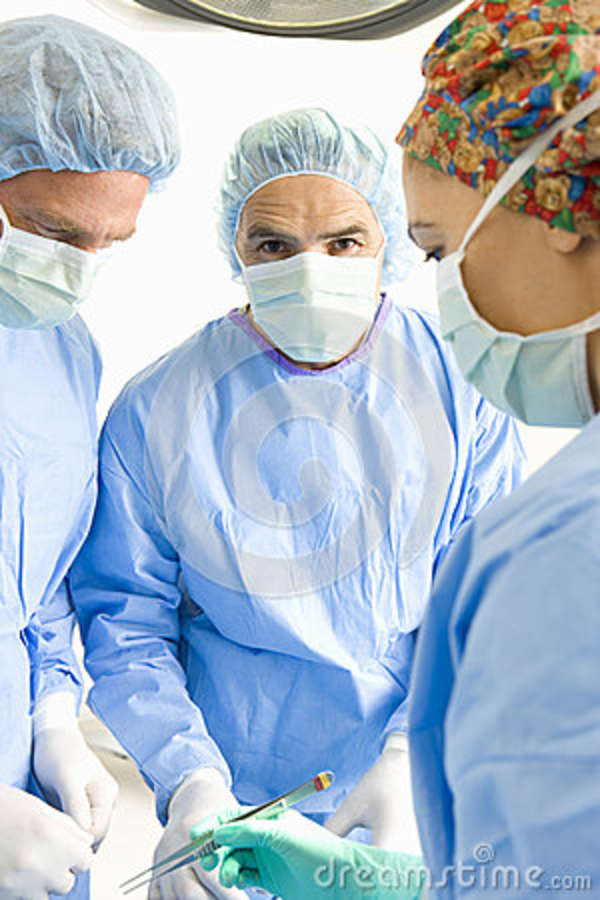mask: (430, 267, 594, 421), (252, 251, 404, 370), (3, 232, 104, 332)
